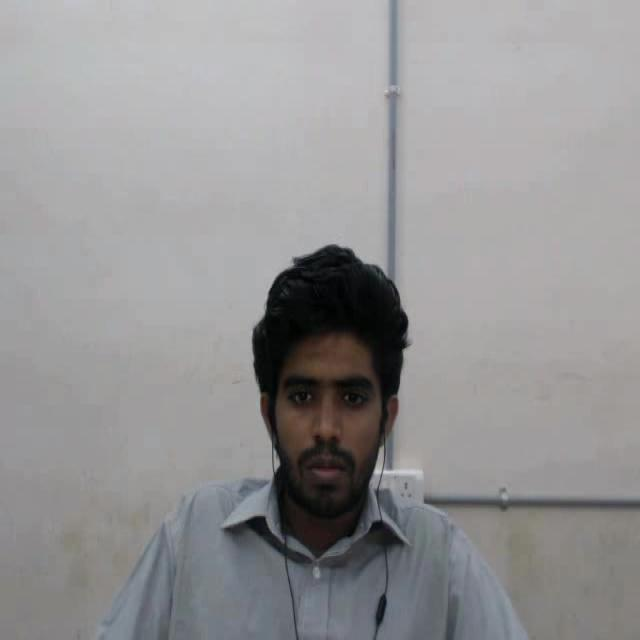Engaged: (223, 210, 422, 586)
